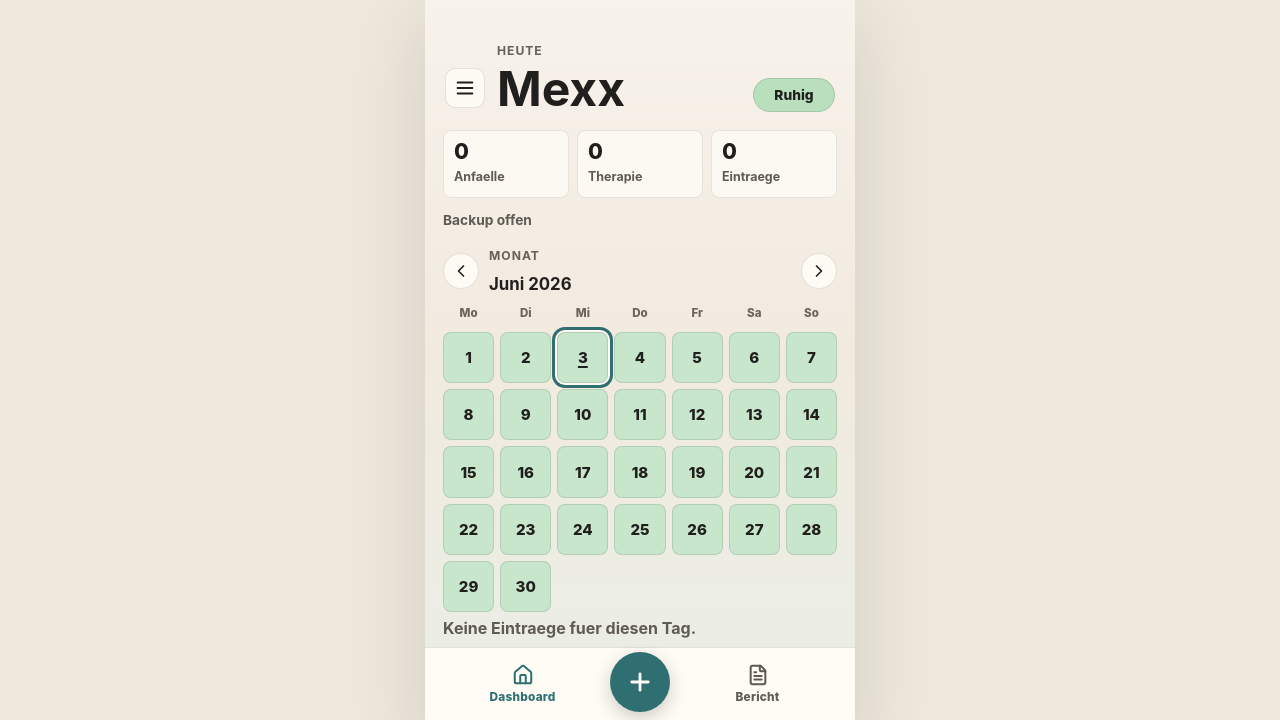
Test: App accessibility smoke › reaches the exports screen and labels its file inputs
Expected: the heading "Mexx" is shown, x1=497 y1=65 x2=625 y2=112
Click the button named "Menue oeffnen" at (465, 88), box x1=445 y1=68 x2=485 y2=108
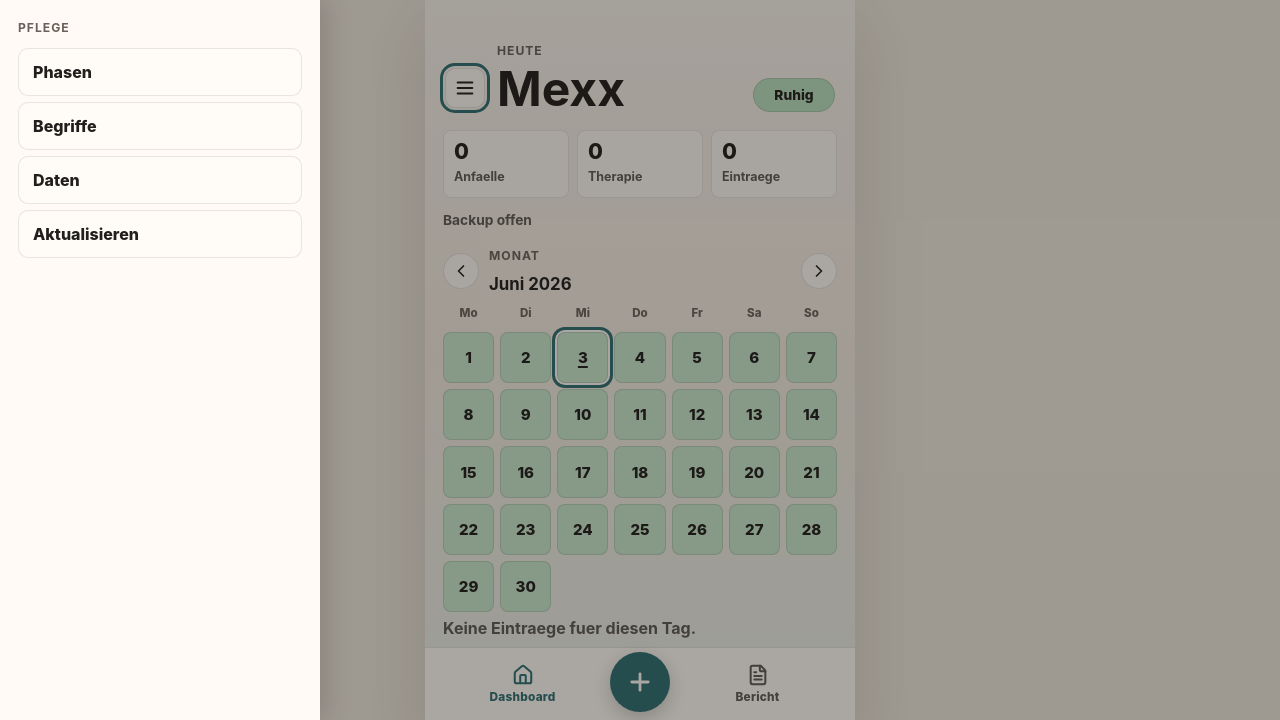
Click the button "Daten" at (56, 180), box x1=18 y1=156 x2=302 y2=204
(page scrolled)
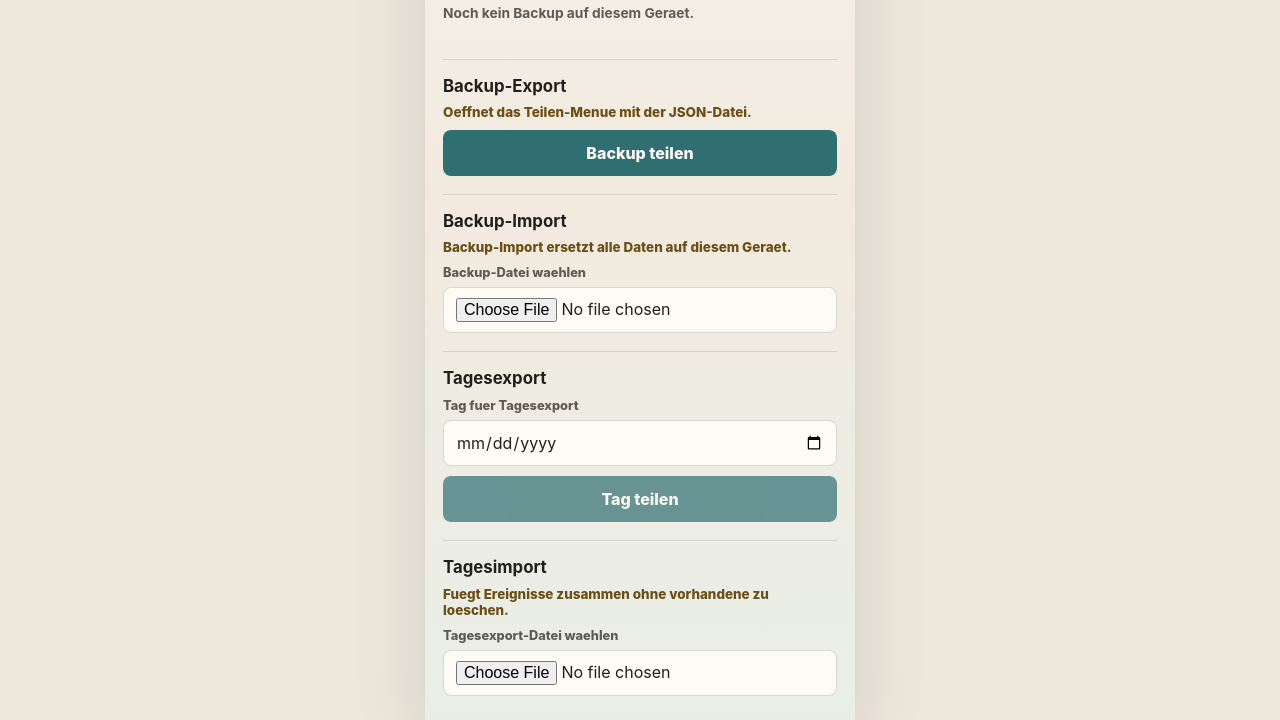
Expected: the file field labelled "Backup-Datei waehlen" is shown, x1=443 y1=287 x2=837 y2=333
Expected: the file field labelled "Tagesexport-Datei waehlen" is shown, x1=443 y1=650 x2=837 y2=696
Expected: the date field labelled "Tag fuer Tagesexport" is shown, x1=443 y1=420 x2=837 y2=466
